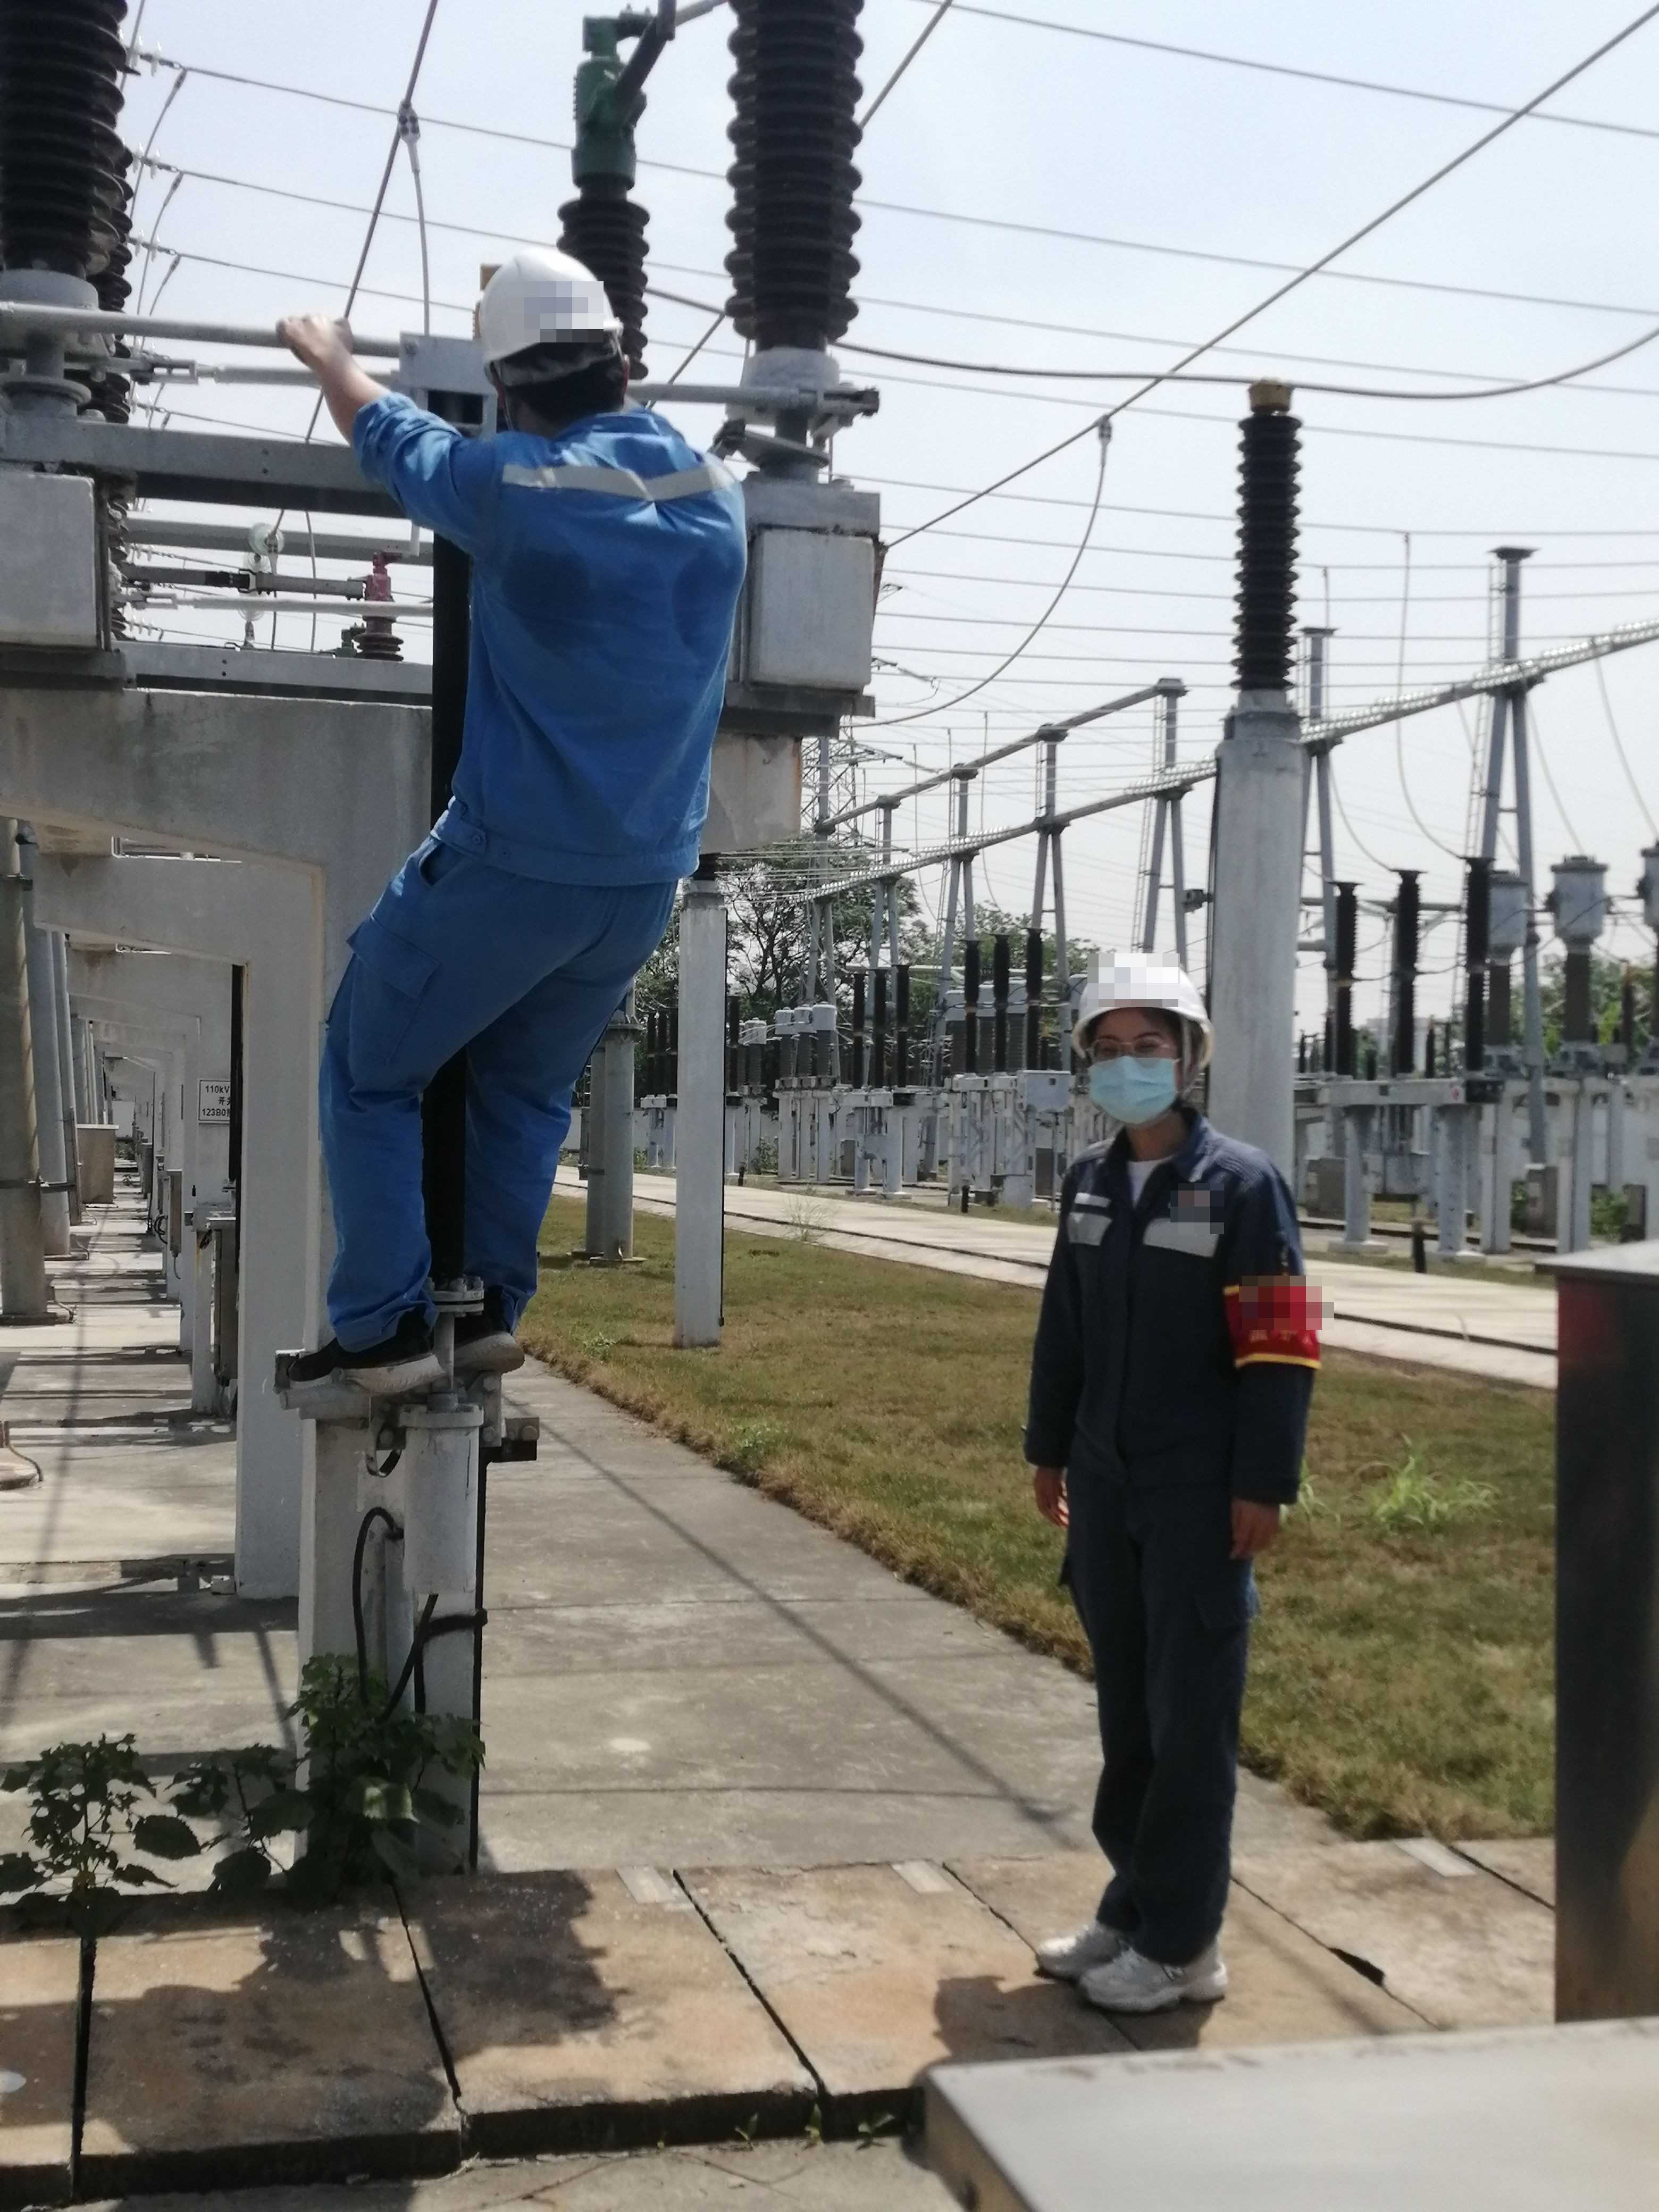downsuit: (315, 897, 678, 1332), (1061, 1547, 1258, 1966)
upsuit: (378, 408, 748, 876), (1025, 1134, 1309, 1543)
wrongtop: (279, 307, 422, 460)
